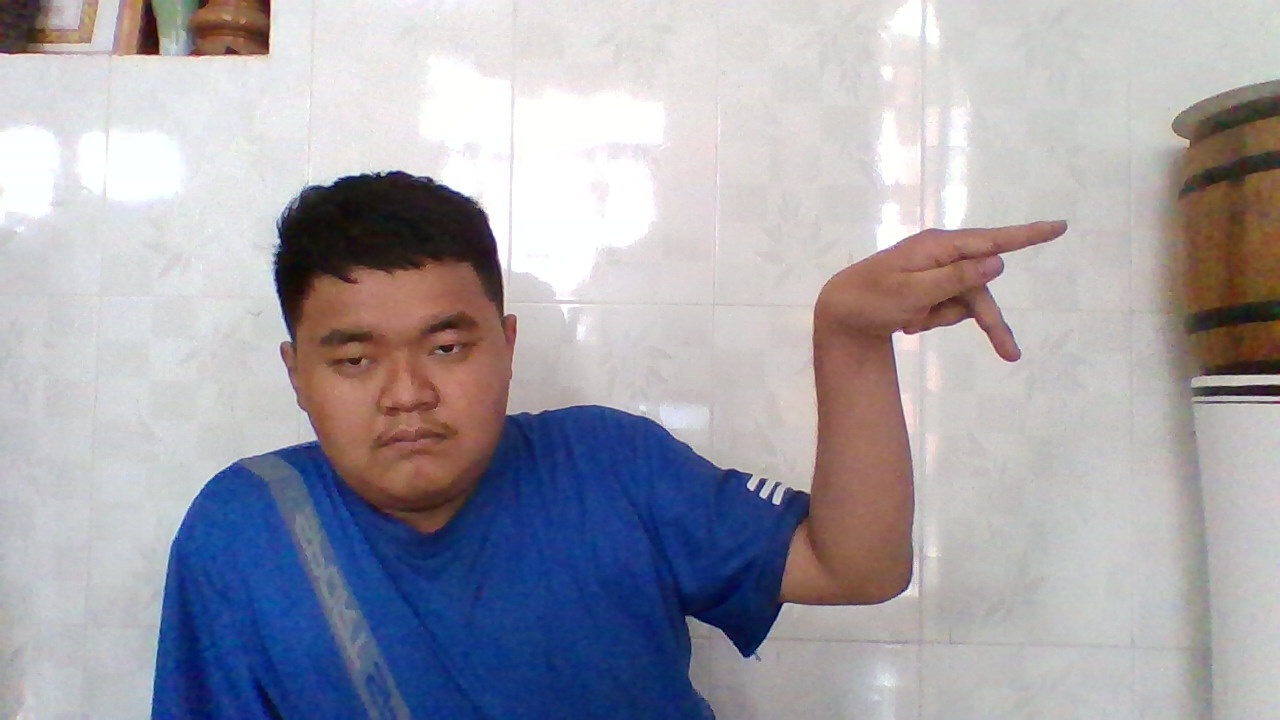P: (825, 212, 1074, 357)
